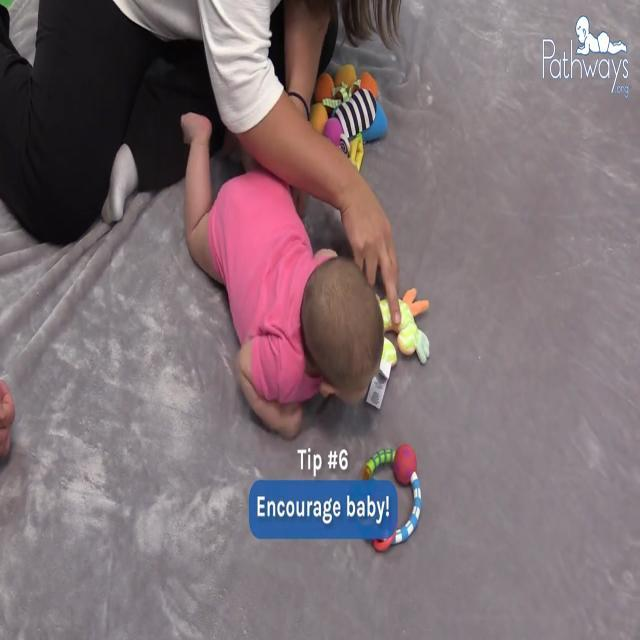baby: (176, 100, 389, 448)
